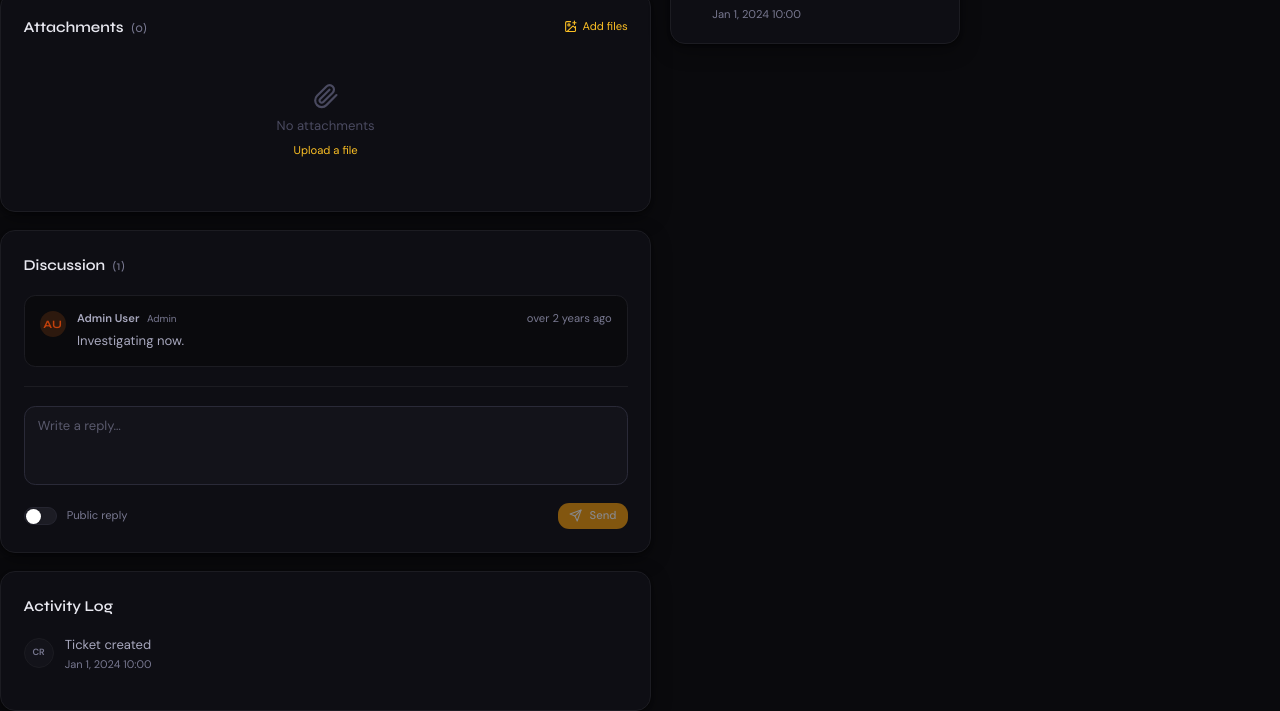
Test: TicketDetailPage — comment form › Send button enables after typing
This screenshot has width=1280, height=711.
(page scrolled)
Step 1. Type "This is my reply" into the text box with placeholder "Write a reply…" → (326, 445), box [24,406,628,485]
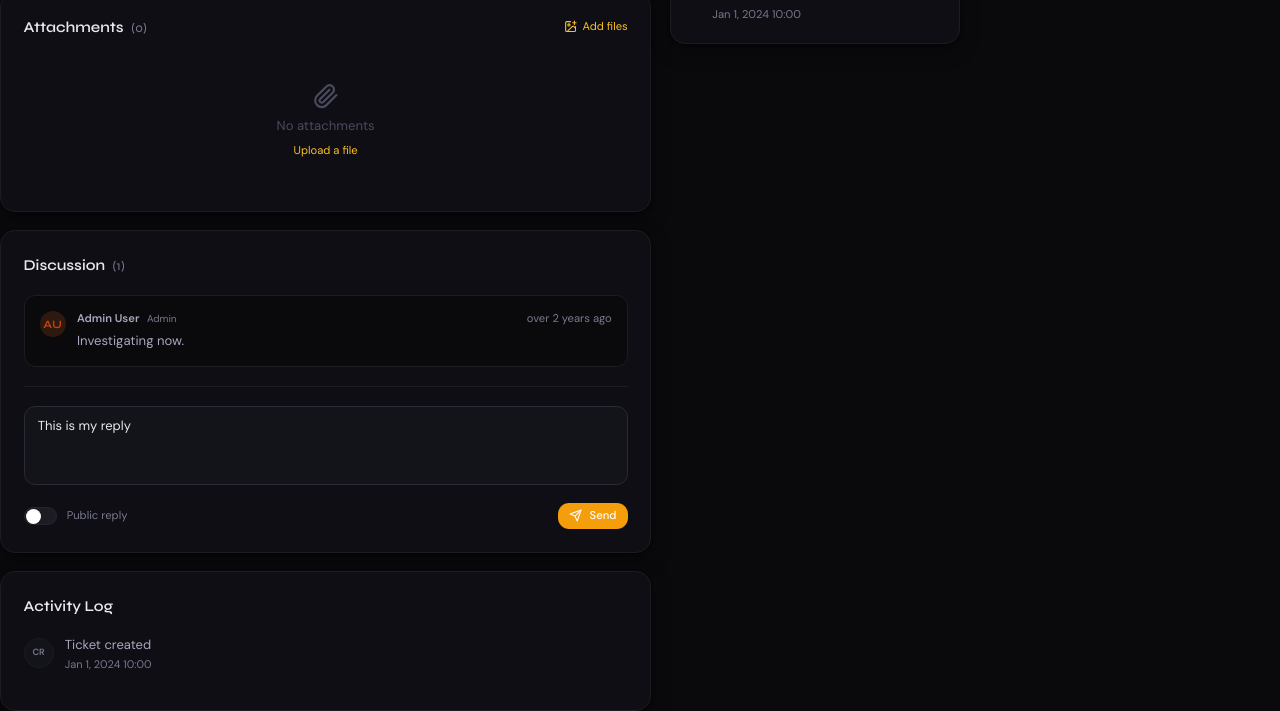
Expected: the button "Send" is enabled, [558,503,628,529]
